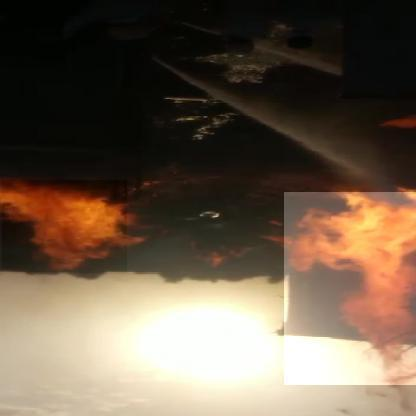Fire: (283, 191, 415, 386), (1, 179, 127, 273)
